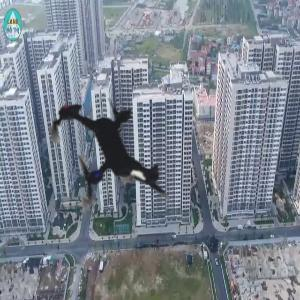drone: (1, 50, 212, 261)
